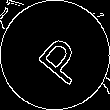P_NW: (24, 24, 86, 86)
